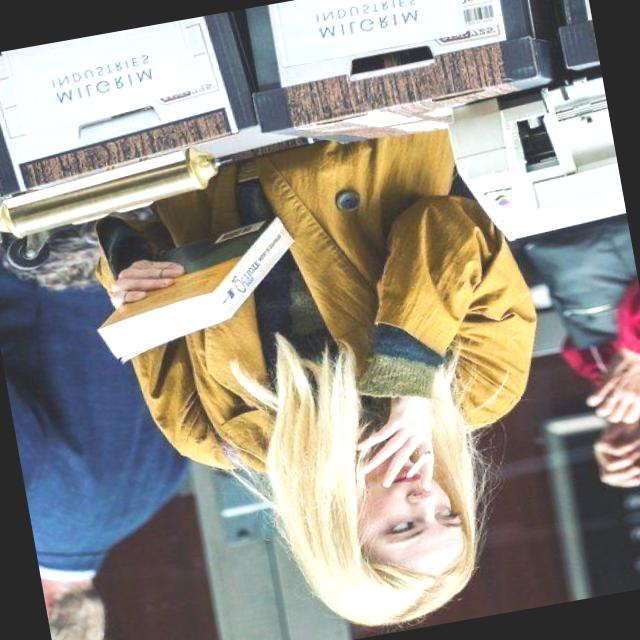smoke: (391, 446, 440, 487)
